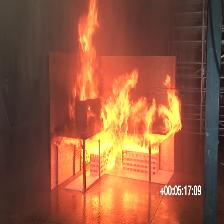fire: (53, 68, 182, 171), (68, 0, 99, 125)
